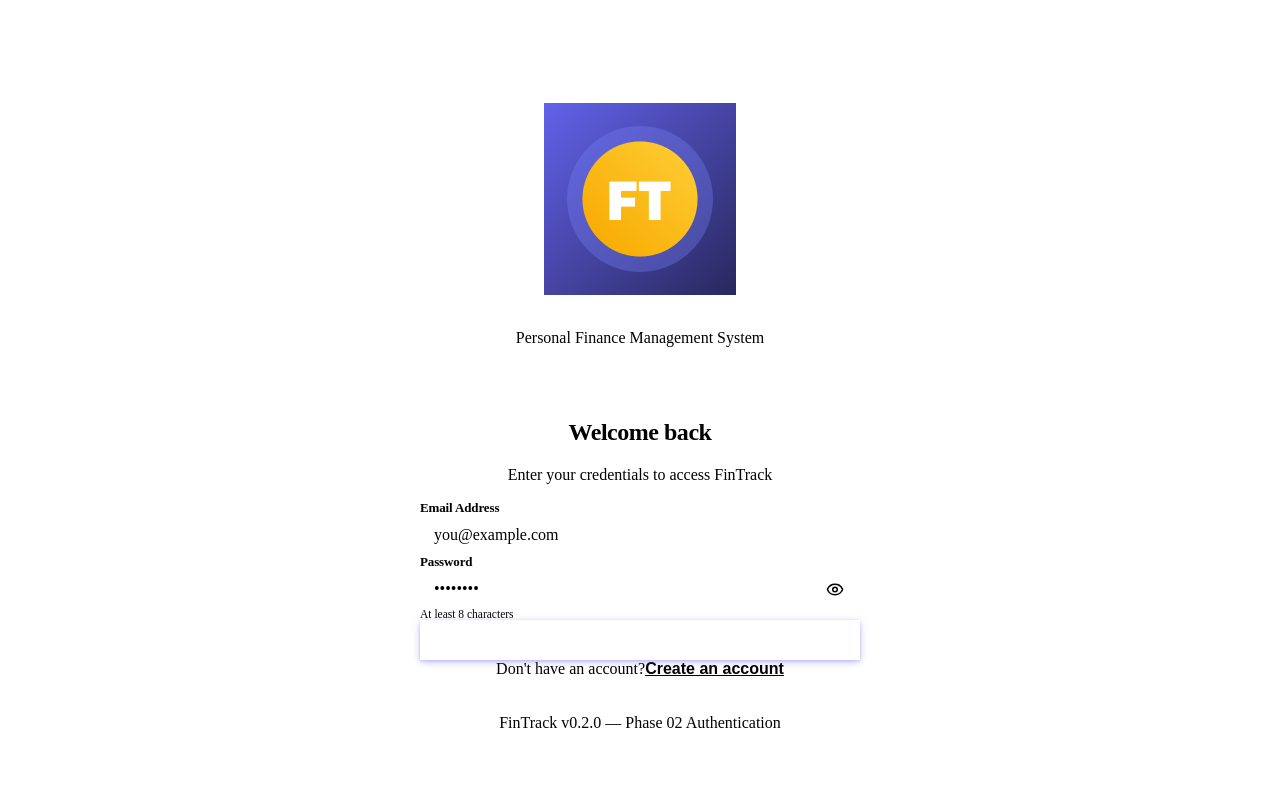
Test: App & Authentication Flow › logs in successfully and renders authenticated dashboard
The width and height of the screenshot is (1280, 800).
Step 1. Type "investor@example.com" into the field labelled "Email Address" → coordinates (640, 535), box [420,516,860,554]
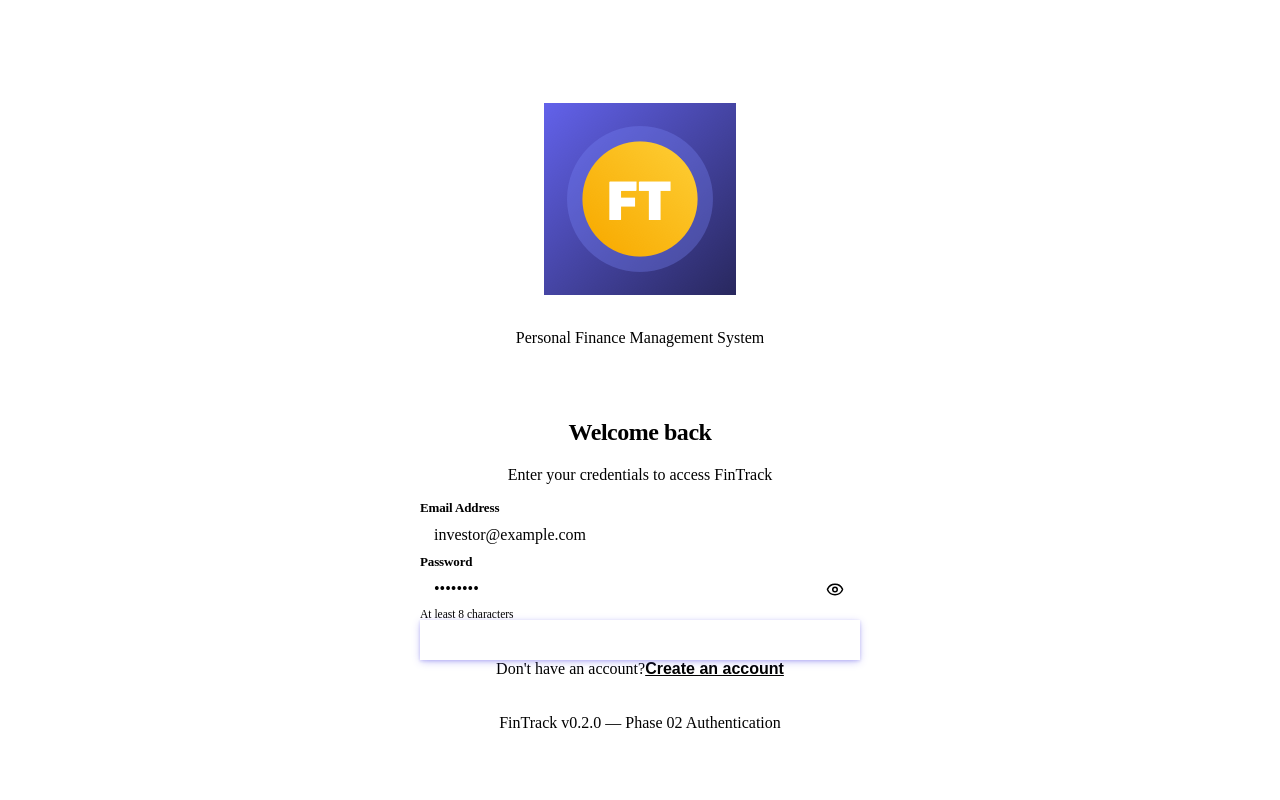
Step 2. Type "Secret123!" into the password field labelled "Password" → coordinates (640, 589), box [420,570,860,608]
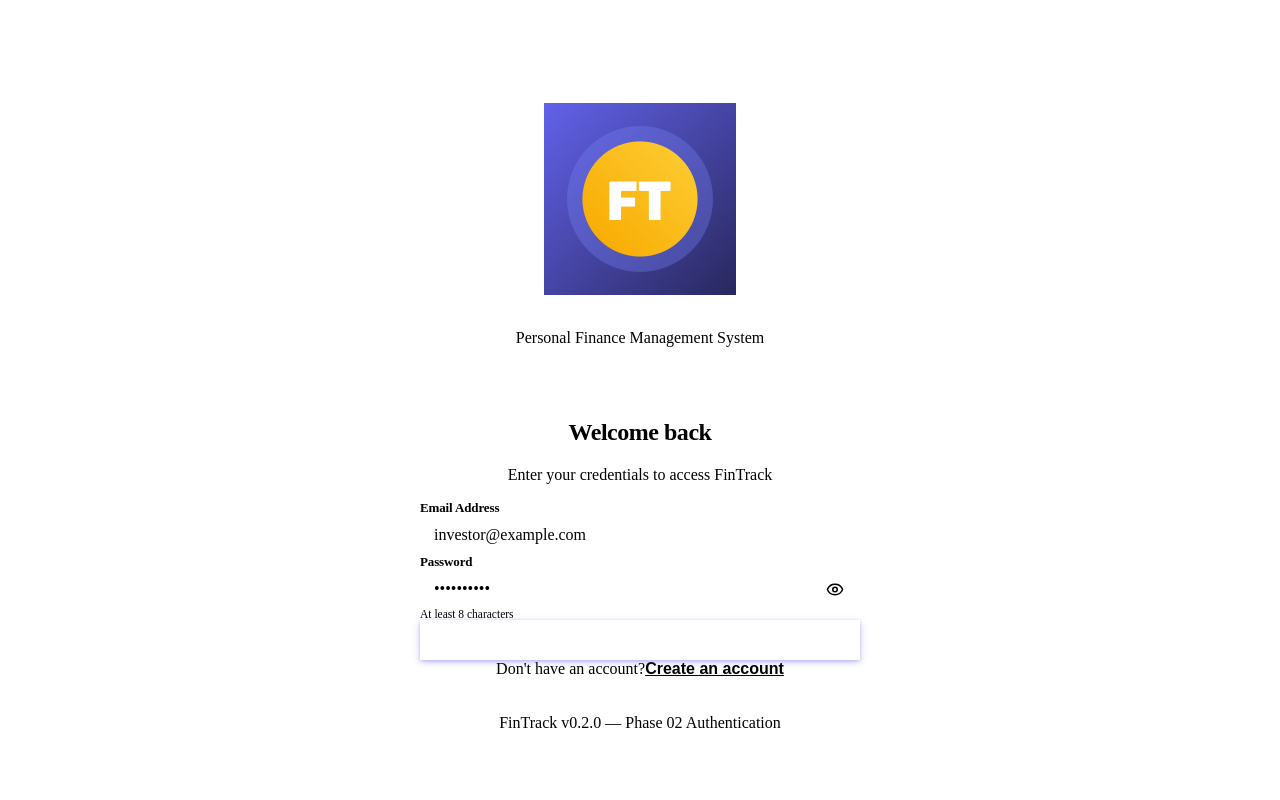
Step 3. Click the button "Sign In" → coordinates (640, 640), box [420,620,860,660]
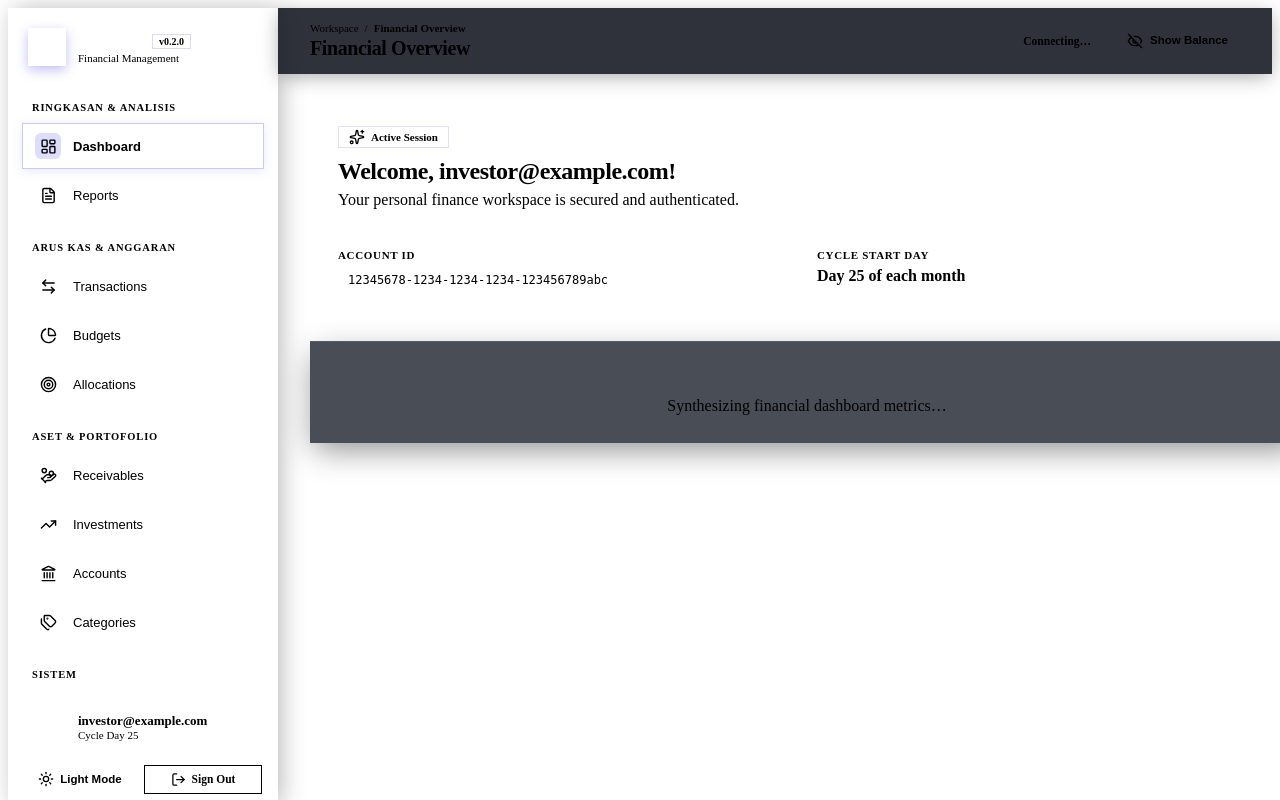
Expected: the heading "Welcome, investor@example.com!" is shown, [338,158,676,184]
Expected: the text "Day 25 of each month" is shown, [817,267,966,284]
Expected: the button "Sign Out" is shown
Step 4. Click the button "Sign Out" → coordinates (203, 779), box [144,764,262,794]
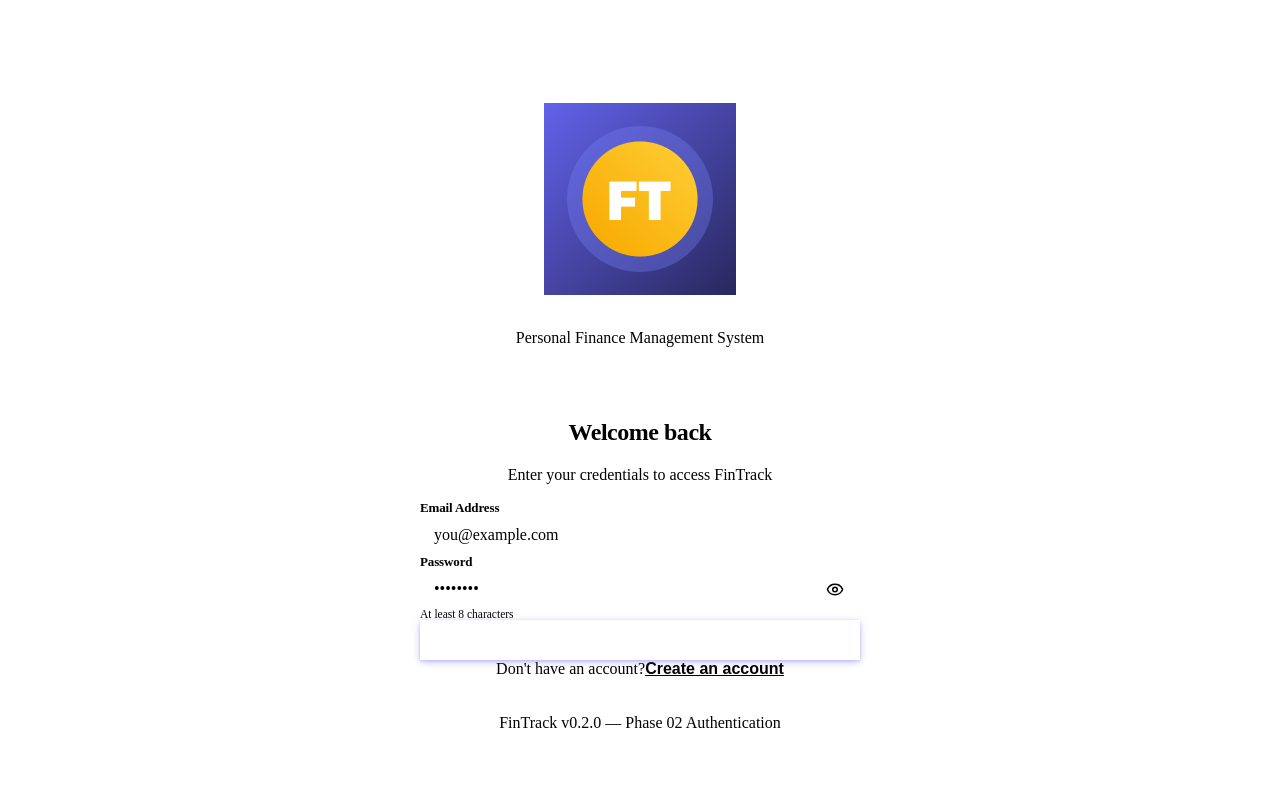
Expected: the heading "Welcome back" is shown, [568,419,711,445]
